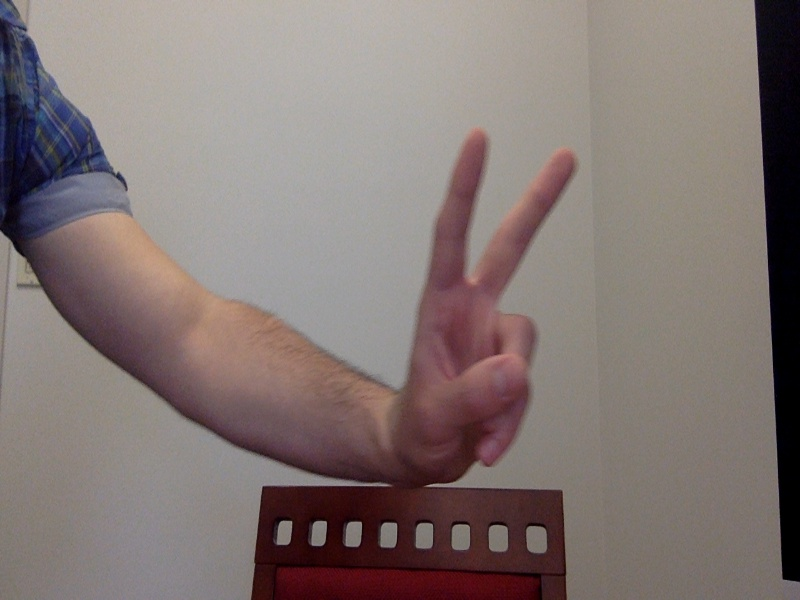2-hand: (402, 128, 578, 480)
